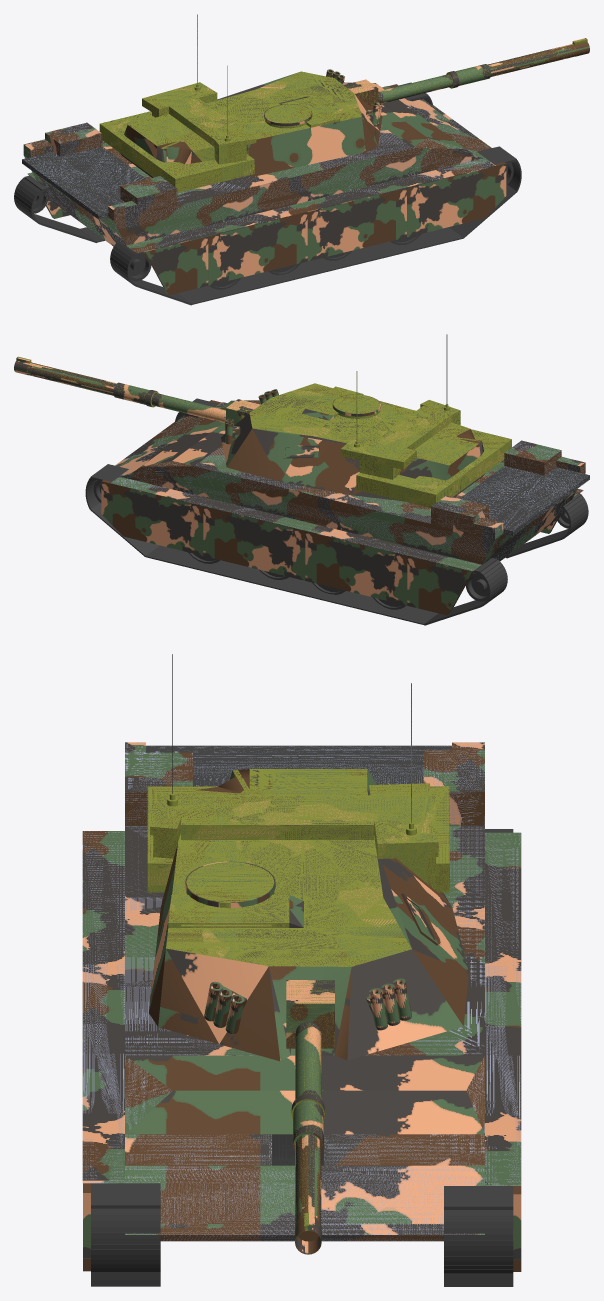
The picture shows the model from 3 angles, top to bottom: view 1: azimuth 30°, elevation 25°; view 2: azimuth 150°, elevation 25°; view 3: azimuth 270°, elevation 25°; orthographic projection. The views are drawn at different scales.
Visible parts, largest first — view 1: SketchUp (×2), Компонент_9 (×7), Компонент_14 (×2), Компонент_11 (×4), Компонент_15, Компонент_16, group_0, group_1, group_12, group_6, group_2; view 2: SketchUp (×2), Компонент_9 (×6), Компонент_14 (×2), Компонент_11 (×4), group_3, Компонент_15, Компонент_16, group_0, group_1, group_9, group_11, group_6; view 3: SketchUp (×2), Компонент_9 (×8), Компонент_11 (×2), group_0, group_1, group_2, group_11, group_3, group_7.
Boxes of the visible parts, x1,y1,x2,y2 form: SketchUp (×2): (22, 82, 511, 253); Компонент_9 (×7): (99, 44, 576, 192); Компонент_14 (×2): (208, 188, 406, 285); Компонент_11 (×4): (14, 82, 521, 305); Компонент_15: (407, 162, 506, 237); Компонент_16: (144, 236, 208, 295); group_0: (371, 83, 464, 148); group_1: (343, 83, 426, 147); group_12: (162, 142, 191, 164); group_6: (120, 125, 156, 177); group_2: (354, 93, 382, 146); SketchUp (×2): (94, 400, 589, 571); Компонент_9 (×6): (27, 362, 511, 507); Компонент_14 (×2): (203, 506, 407, 605); Компонент_11 (×4): (85, 398, 588, 625); group_3: (227, 428, 427, 495); Компонент_15: (101, 480, 203, 555); Компонент_16: (407, 556, 473, 615); group_0: (141, 400, 233, 466); group_1: (172, 404, 260, 465); group_9: (353, 460, 449, 500); group_11: (221, 413, 252, 466); group_6: (445, 444, 483, 497); SketchUp (×2): (82, 742, 521, 1241); Компонент_9 (×8): (147, 769, 449, 1254); Компонент_11 (×2): (91, 829, 513, 1286); group_0: (125, 1090, 484, 1134); group_1: (125, 1055, 484, 1090); group_2: (158, 948, 280, 1061); group_11: (347, 949, 463, 1060); group_3: (367, 790, 468, 1025); group_7: (269, 966, 351, 1061).
Size of the model in its own units: 597 by 215 by 229.
7 materials, 2 textured.
